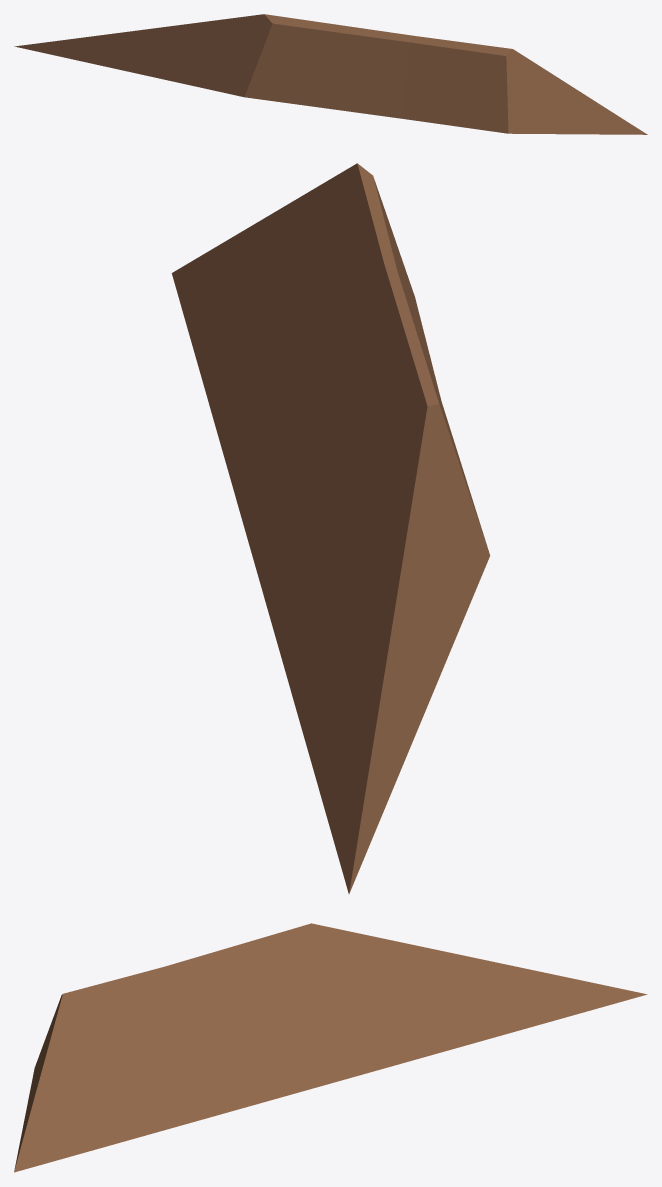
The model's file is WoodCellCube_003_cell_023.fbx.
3 renders of one model, top to bottom at view 1: azimuth 30°, elevation 25°; view 2: azimuth 150°, elevation 25°; view 3: azimuth 270°, elevation 25°, orthographic. The views are drawn at different scales.
Visible parts, largest first — view 1: WoodCellCube_003_cell_023; view 2: WoodCellCube_003_cell_023; view 3: WoodCellCube_003_cell_023.
Part boxes in pixels (<box>): WoodCellCube_003_cell_023: <box>14,14,647,134</box>; WoodCellCube_003_cell_023: <box>171,163,490,893</box>; WoodCellCube_003_cell_023: <box>14,923,647,1172</box>.
Bounding box in the file's own units: 1.35 × 0.3322 × 1.04.
Materials: 1 (1 with a texture image).
